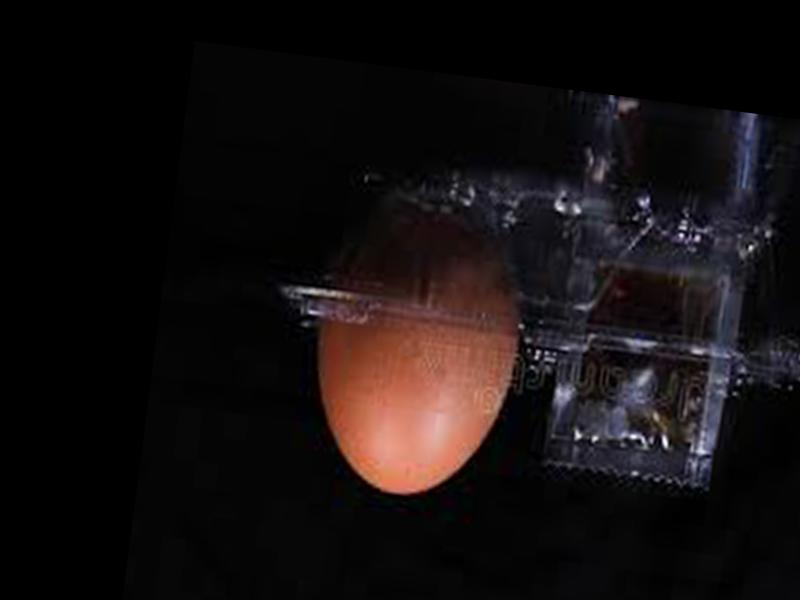Eggs: (295, 187, 532, 505)
